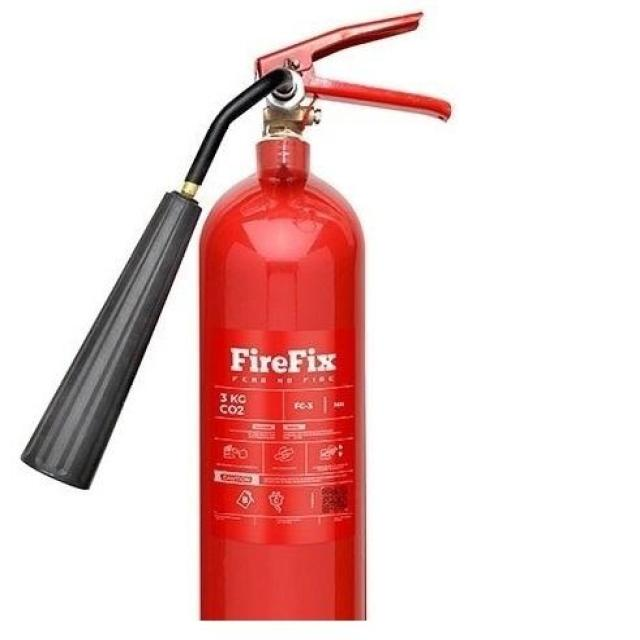fire_extinguisher: (14, 6, 457, 638)
